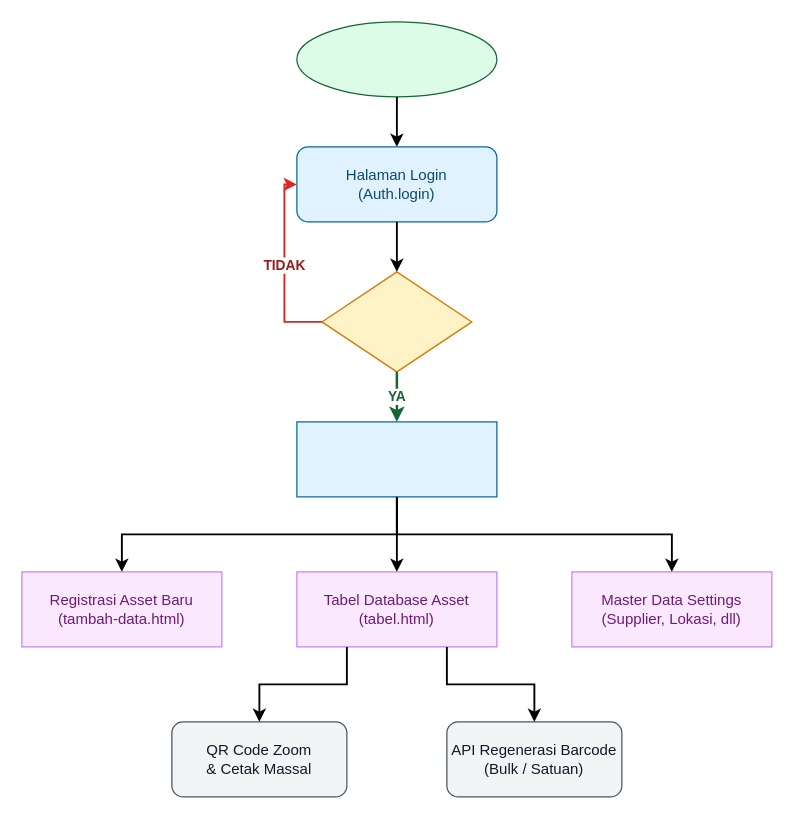
Some shapes in this 794 by 819 pixel diagram are drawn without their labels. The centre of each missing label's shape, as x and y in pixels:
"Dashboard Utama (Statistik & Ringkasan)" belongs at pixel 396 459.
"Kredensial Valid?" belongs at pixel 396 321.
"Mulai / Akses Aplikasi" belongs at pixel 396 59.
